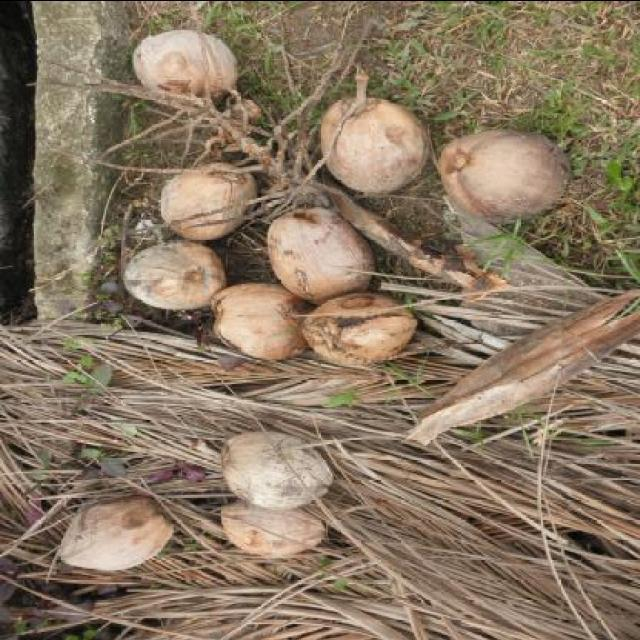Coconut: (434, 130, 568, 222), (316, 90, 433, 193), (268, 208, 370, 304), (218, 432, 336, 510), (300, 290, 416, 364), (57, 494, 175, 566), (134, 28, 240, 108), (159, 162, 259, 240), (213, 282, 310, 360), (124, 240, 225, 308), (218, 501, 330, 556)
